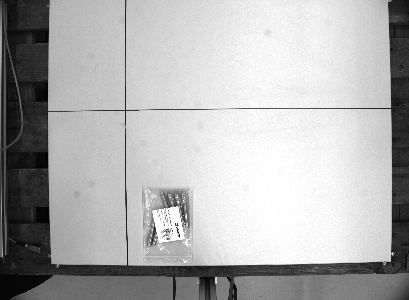t2: (139, 181, 197, 266)
